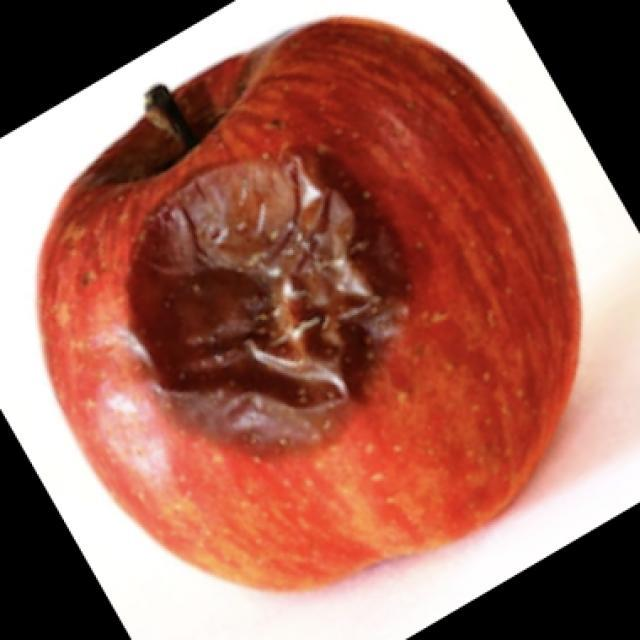Rotten: (63, 48, 567, 555)
